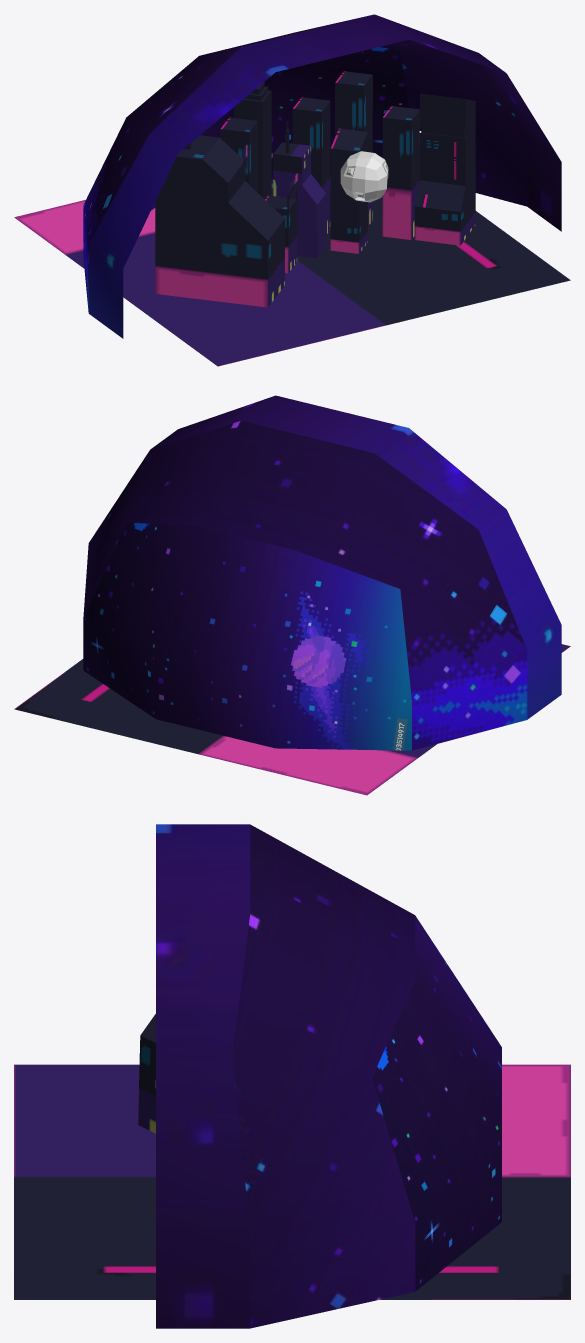
3 renders of one model, top to bottom at view 1: azimuth 30°, elevation 25°; view 2: azimuth 150°, elevation 25°; view 3: azimuth 270°, elevation 25°, orthographic. The views are drawn at different scales.
Parts seen in each view (by area): view 1: Cube, Cube.003, Cube.002; view 2: Cube.003, Cube; view 3: Cube.003, Cube.
Part boxes in pixels (x1,y1,x2,y2): Cube: (14, 71, 570, 366); Cube.003: (83, 14, 561, 338); Cube.002: (340, 151, 388, 202); Cube.003: (83, 395, 561, 750); Cube: (14, 644, 570, 795); Cube.003: (156, 824, 501, 1328); Cube: (14, 1014, 570, 1299).
Size of the model in its own units: 33.48 by 16.84 by 26.96.
4 materials, 2 textured.
